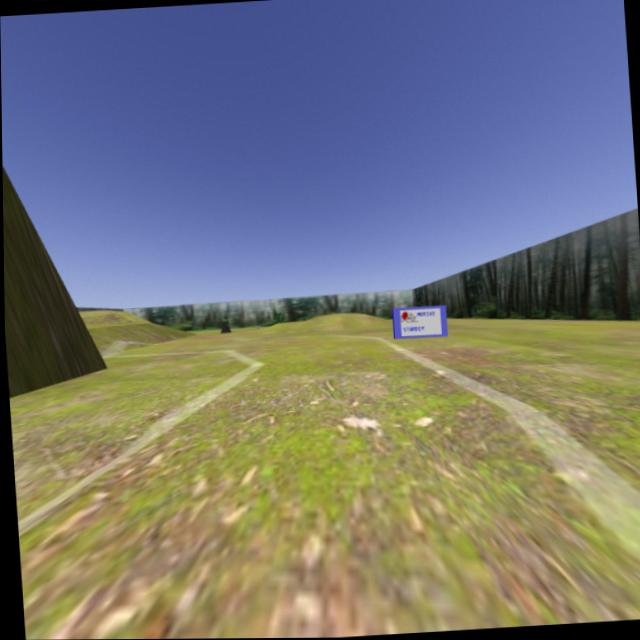clueboard: (391, 305, 450, 341)
